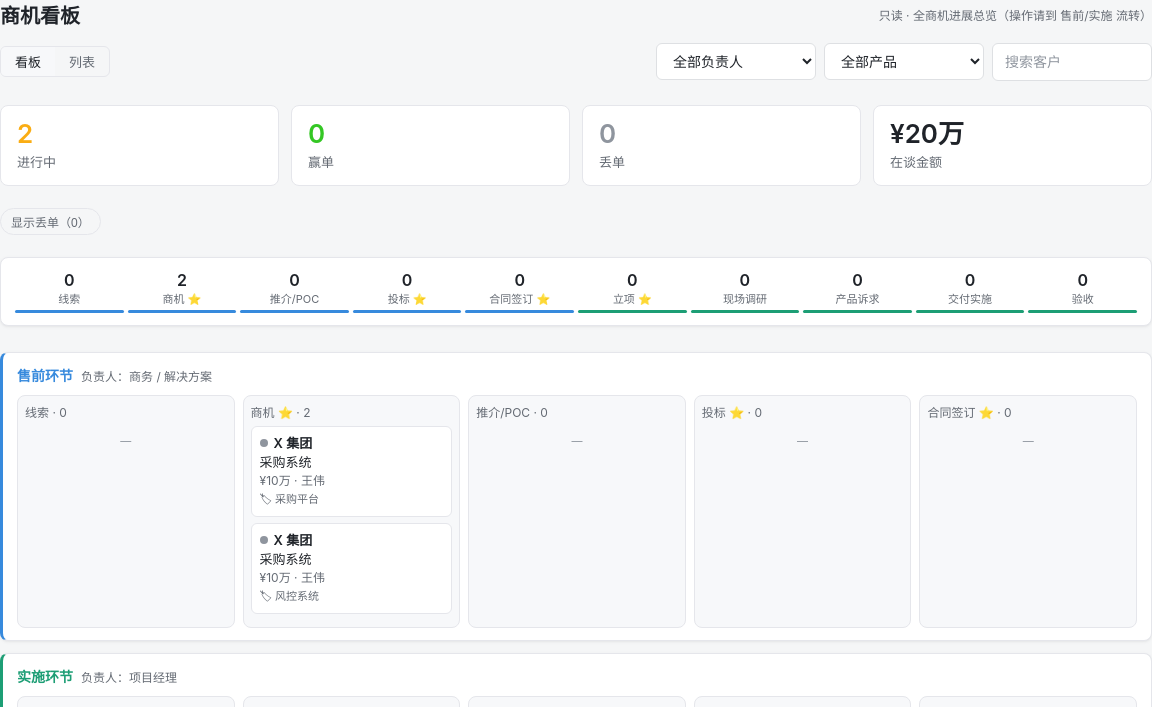
Test: OpportunityBoard (read-only) › filters by product (TC-OPPB-10)
The image size is (1152, 707).
Check: the button with test id "opp-card-8" is shown, box [251,523,452,614]
Select "采购平台" in the dropdown with test id "opp-filter-product" at (904, 62), box [824,43,984,80]
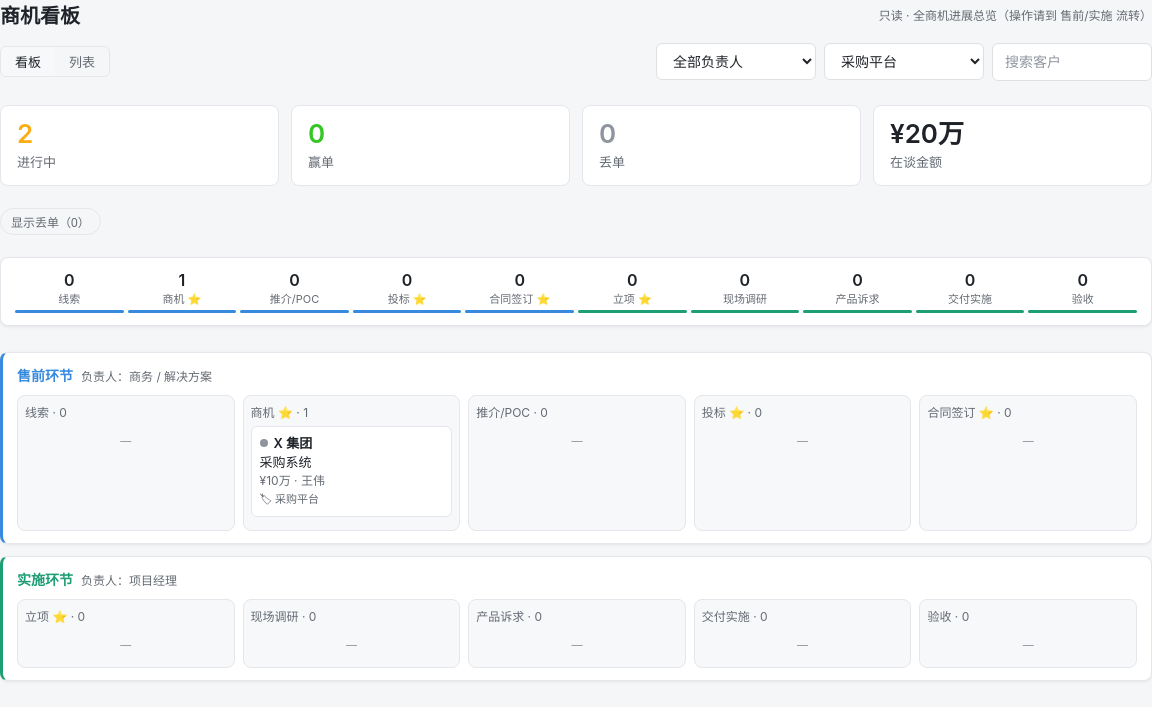
Check: the button with test id "opp-card-7" is shown, box [251,426,452,517]
Check: the button with test id "opp-card-8" is gone
